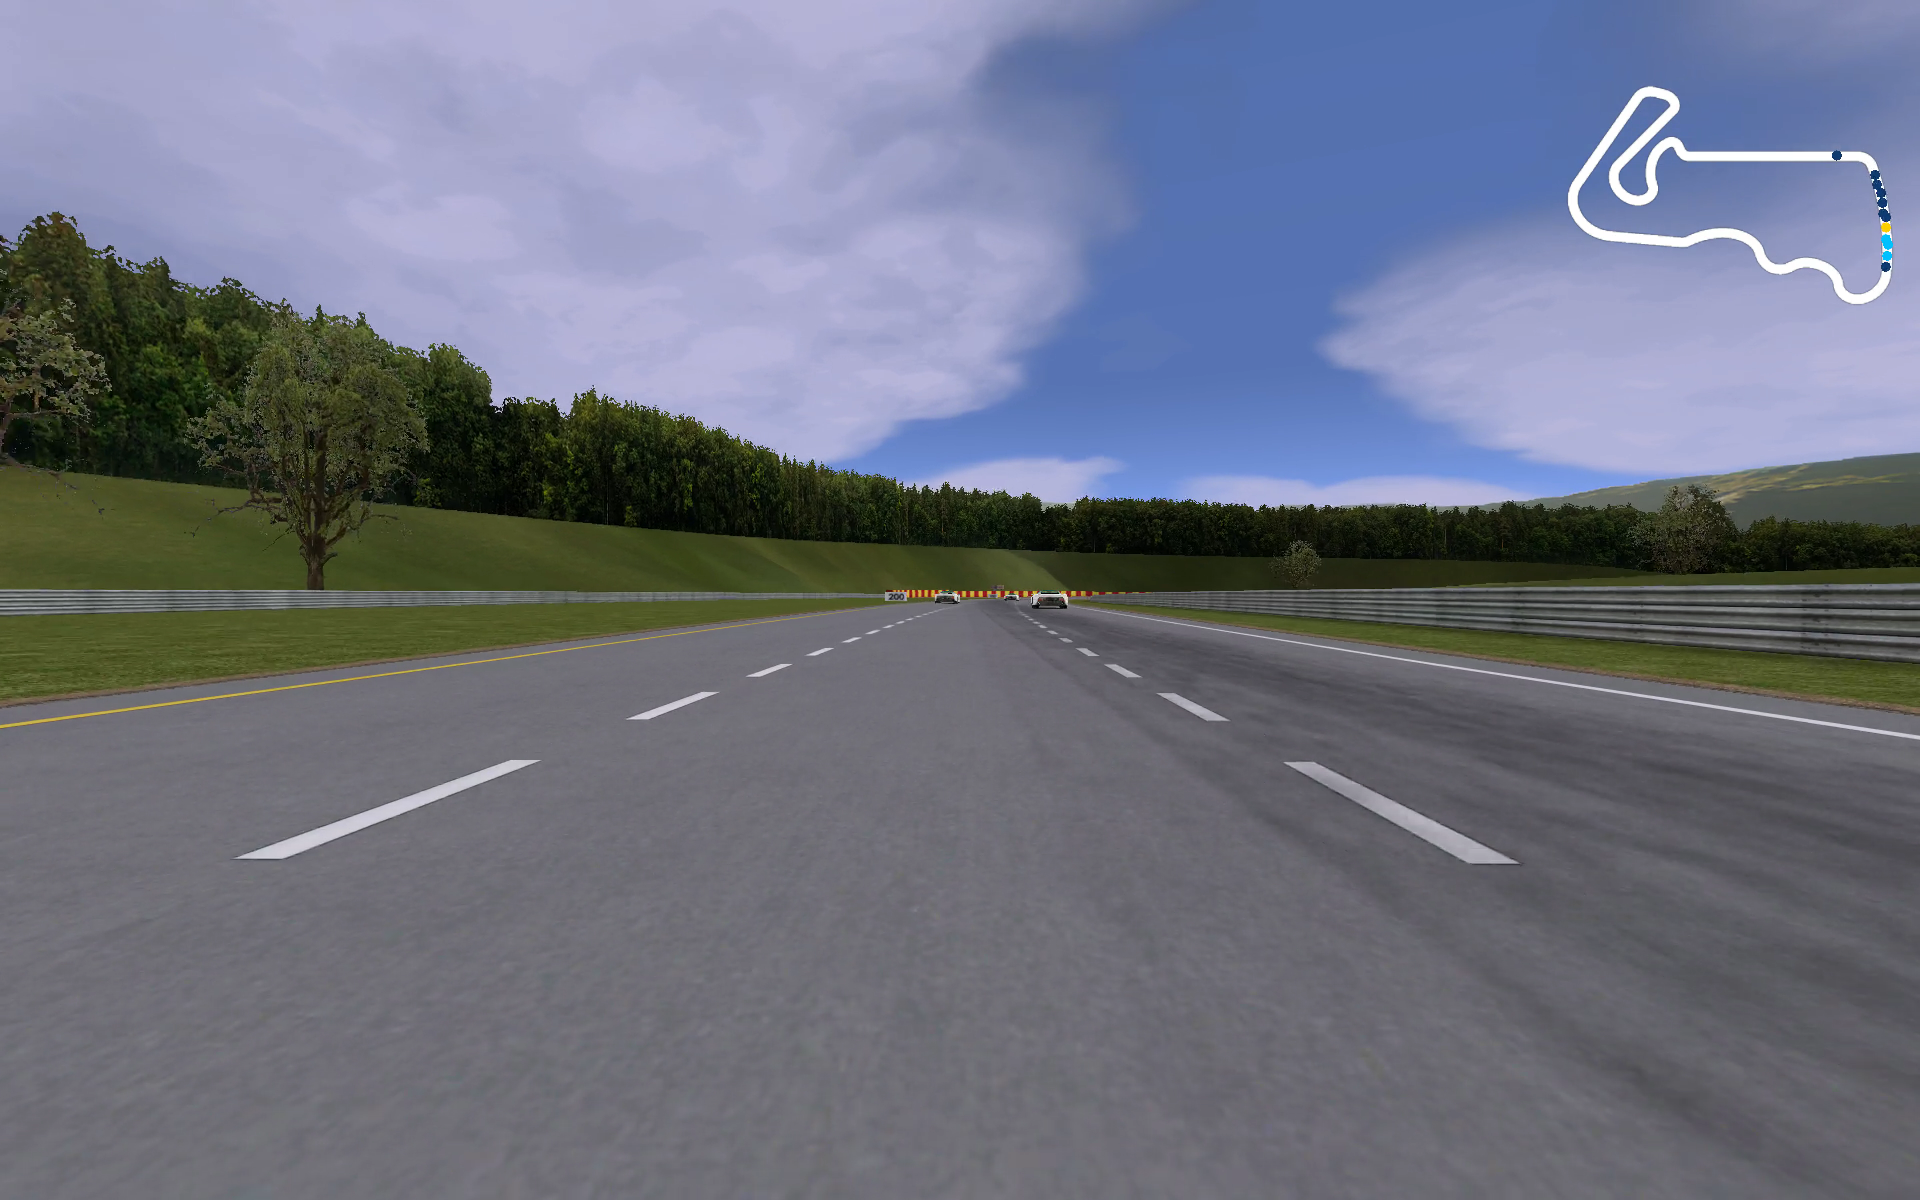car: (1028, 586, 1073, 611), (932, 589, 962, 606), (1002, 592, 1019, 603)
